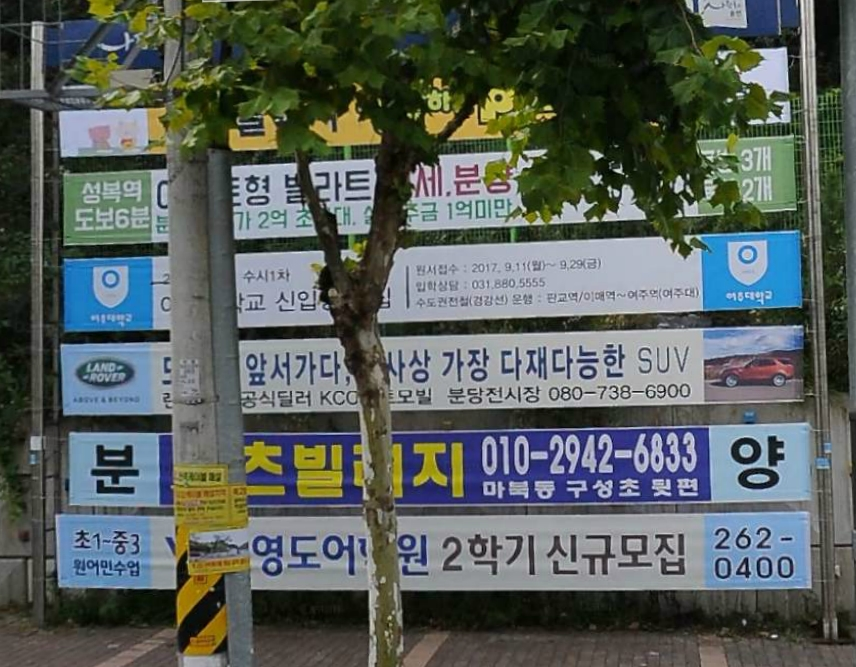banner: (63, 132, 800, 249), (53, 228, 811, 334), (68, 425, 823, 513), (43, 507, 815, 589), (55, 331, 809, 409)
